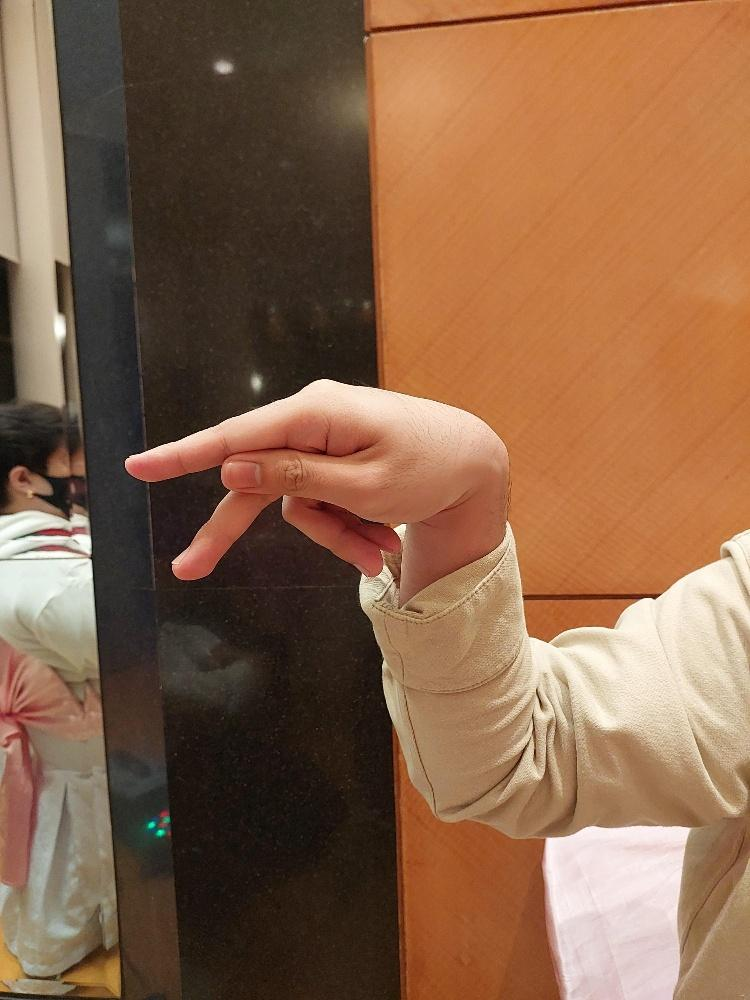p: (121, 373, 506, 584)
